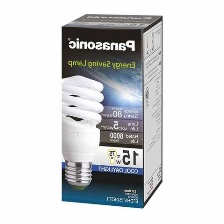carton: (59, 7, 168, 209)
